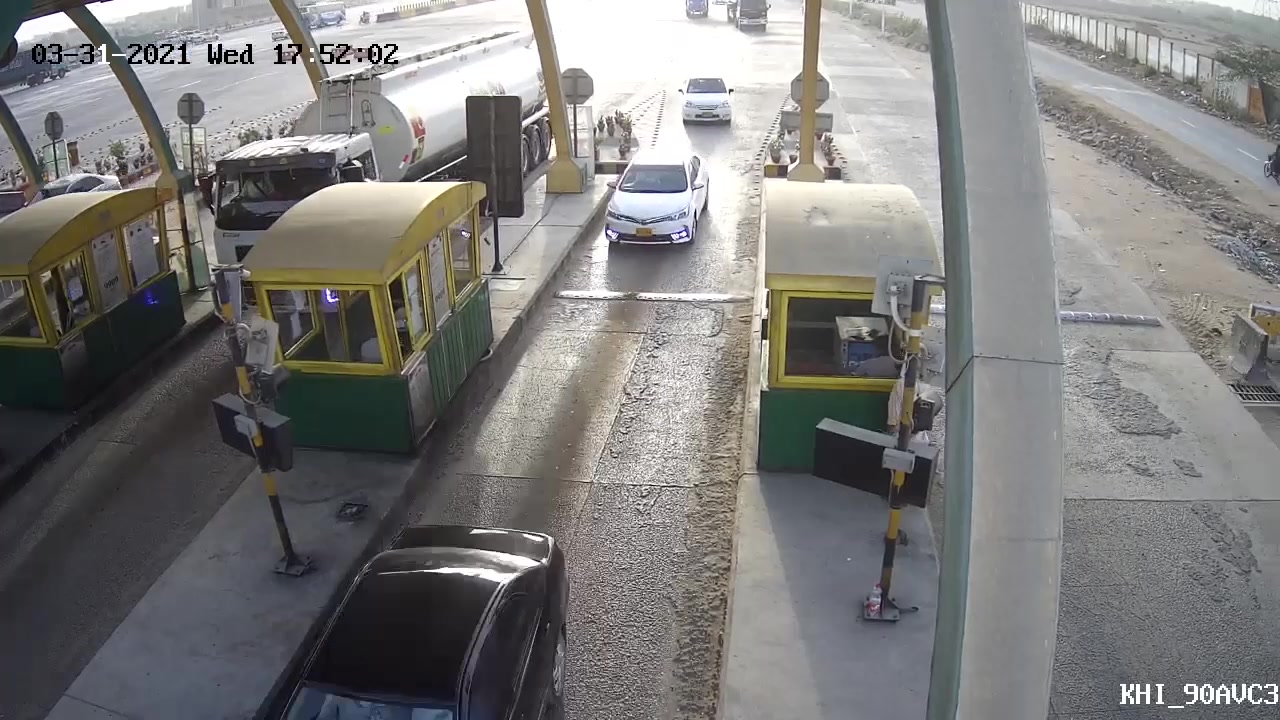F1: (585, 143, 722, 278)
